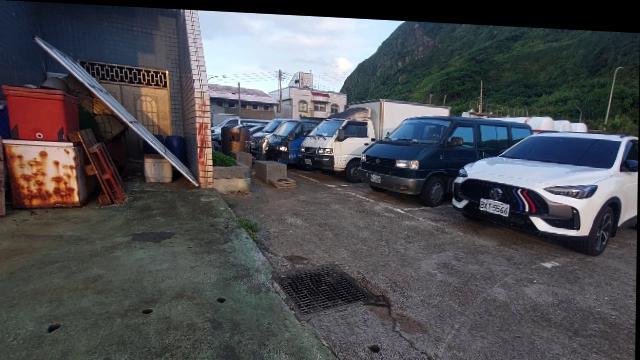pollute: (2, 72, 131, 209), (151, 133, 186, 164), (144, 151, 172, 181)
